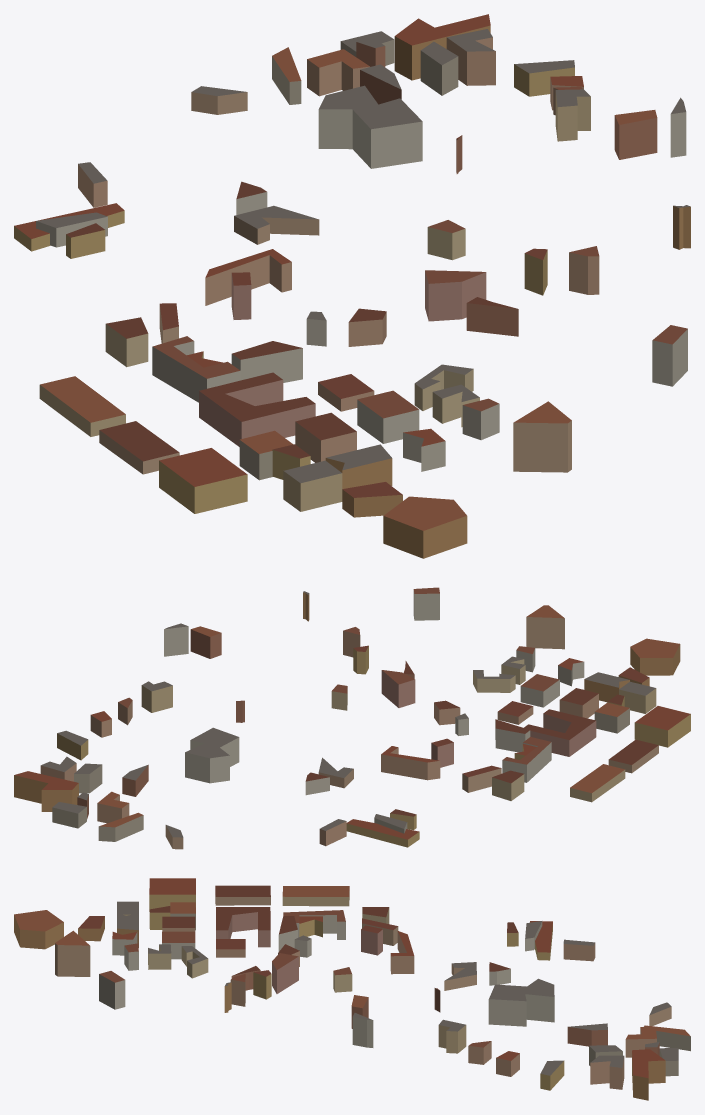
The model's file is SM_Fondale_Citta_Colle_01_LOD2.fbx.
3 renders of one model, top to bottom at view 1: azimuth 30°, elevation 25°; view 2: azimuth 150°, elevation 25°; view 3: azimuth 270°, elevation 25°, orthographic. The views are drawn at different scales.
Visible parts, largest first — view 1: SM_Fondale_Citta_Colle_01_LOD2; view 2: SM_Fondale_Citta_Colle_01_LOD2; view 3: SM_Fondale_Citta_Colle_01_LOD2.
Part boxes in pixels (<box>): SM_Fondale_Citta_Colle_01_LOD2: <box>14,14,690,558</box>; SM_Fondale_Citta_Colle_01_LOD2: <box>14,587,690,849</box>; SM_Fondale_Citta_Colle_01_LOD2: <box>14,878,690,1100</box>.
Size of the model in its own units: 49006 by 64698 by 8785.
